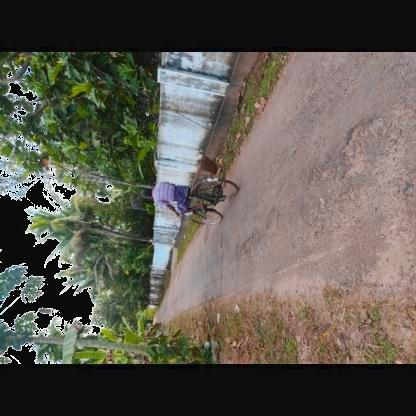Bicycle: (171, 159, 240, 245)
